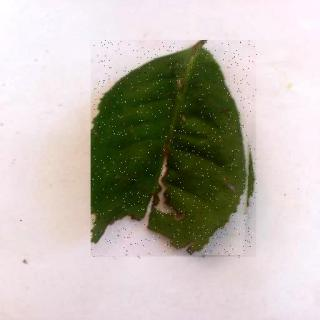Brown Blight: (93, 41, 259, 259)
